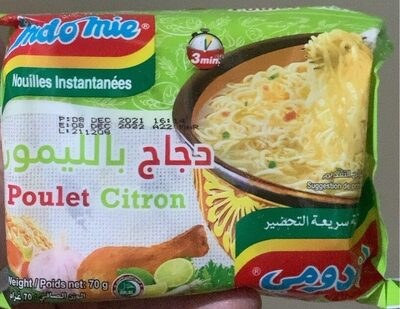Poulet citron: (20, 15, 380, 294)
